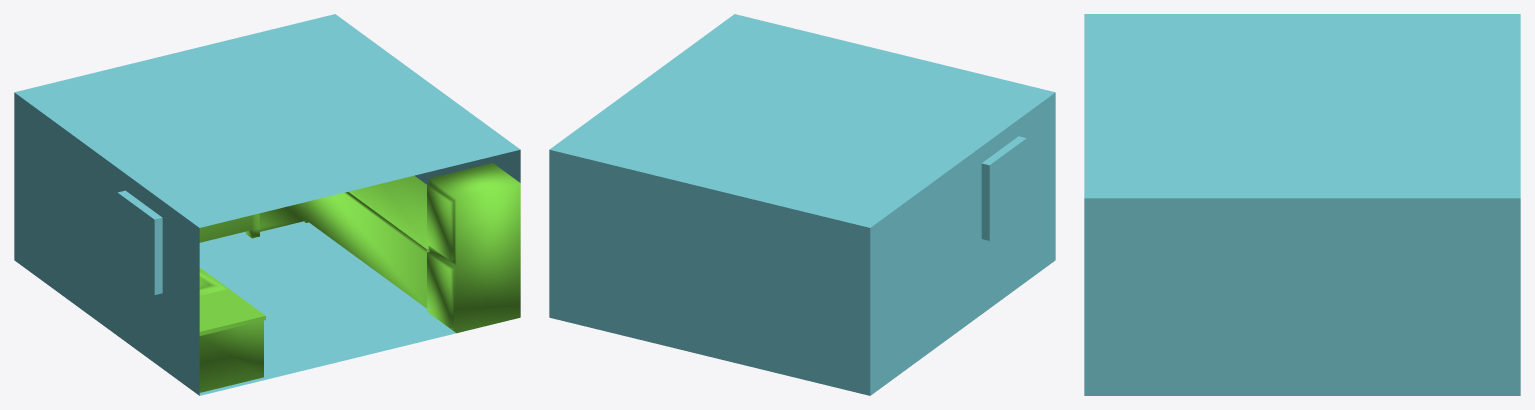
The model's file is Cocina_Completo.glb.
3 views of the same model, side by side, from view 1: azimuth 30°, elevation 25°; view 2: azimuth 150°, elevation 25°; view 3: azimuth 270°, elevation 25° (orthographic). The views are drawn at different scales.
Visible parts, largest first — view 1: Cocina_Paredes, Cocina_Barra; view 2: Cocina_Paredes; view 3: Cocina_Paredes.
Part boxes in pixels (x1,y1,x2,y2): Cocina_Paredes: (14, 14, 520, 395); Cocina_Barra: (199, 163, 520, 392); Cocina_Paredes: (549, 14, 1055, 395); Cocina_Paredes: (1084, 14, 1520, 395).
Size of the model in its own units: 10.25 by 5.01 by 10.
